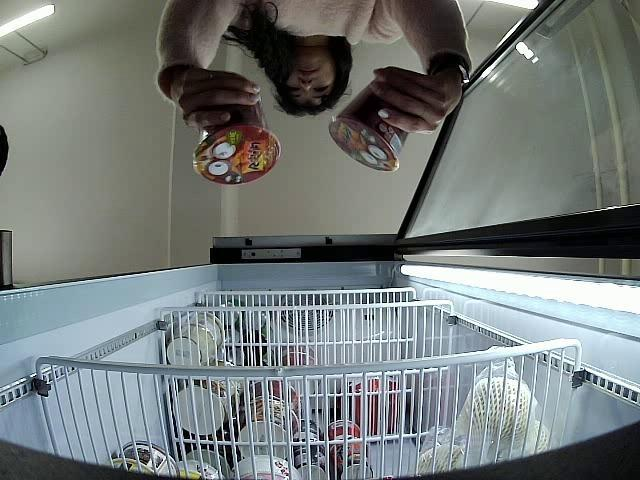06_nuguri_S: (329, 76, 408, 172), (192, 105, 281, 187)
